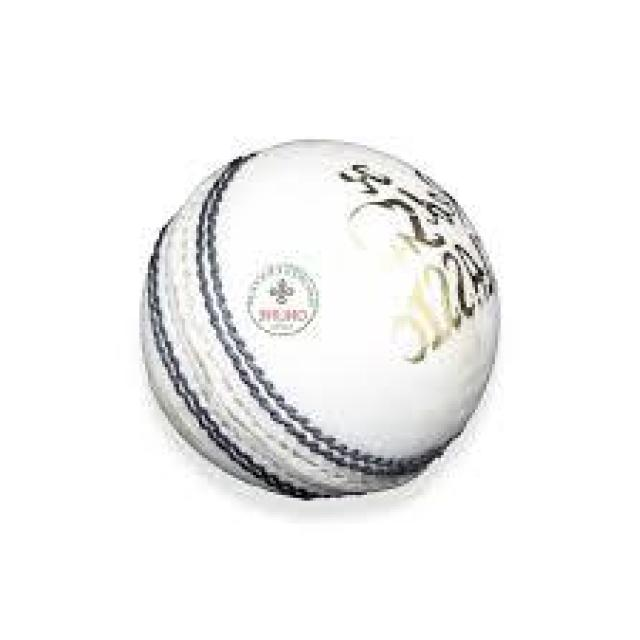ball: (142, 137, 501, 500)
